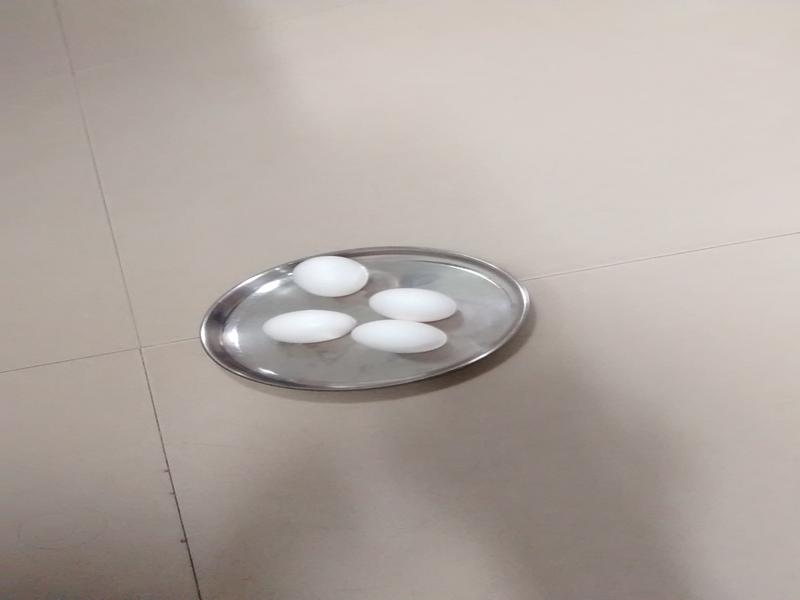egg: (352, 316, 448, 355)
